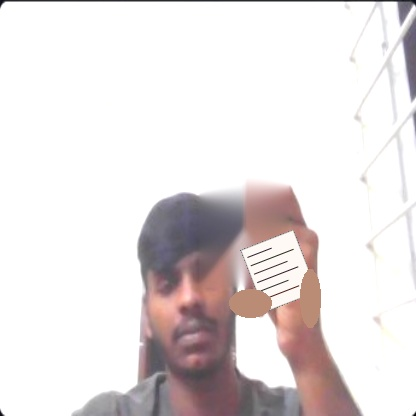cheat_chit: (240, 229, 317, 312)
